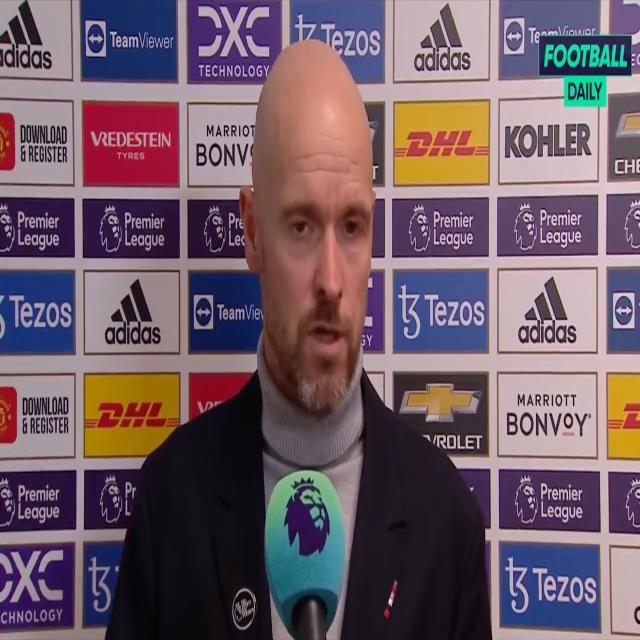Adidas: (412, 0, 472, 76), (517, 273, 580, 344), (103, 276, 163, 348), (0, 0, 54, 72)
Chevrolet: (399, 376, 482, 452)
Kohler: (504, 122, 592, 162)
TeamViewer: (504, 18, 598, 53), (87, 19, 174, 56)
